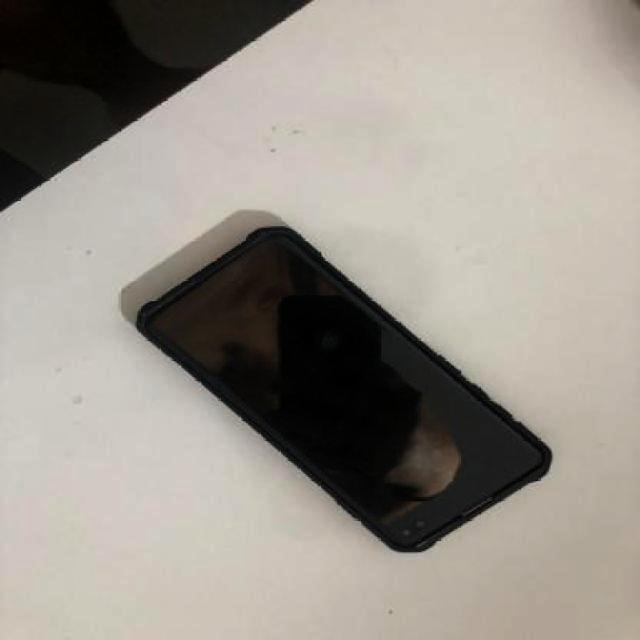phone: (137, 226, 552, 562)
